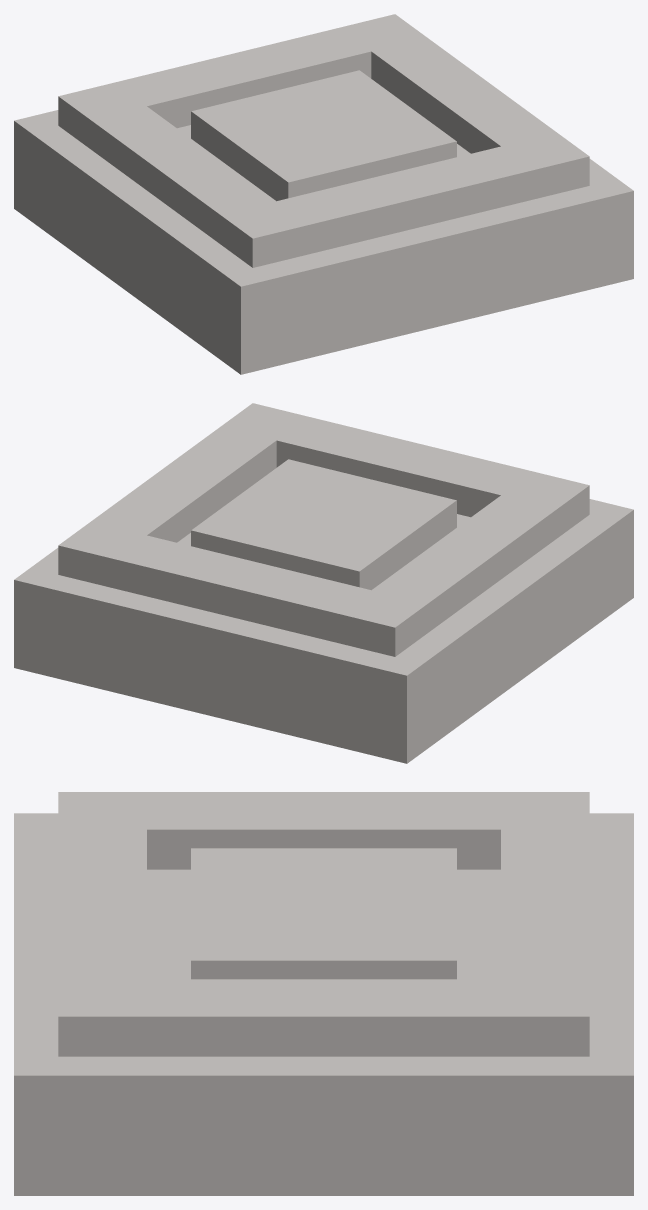
File: man-v3-white.gltf
3 views of the same model, one above another, from view 1: azimuth 30°, elevation 25°; view 2: azimuth 150°, elevation 25°; view 3: azimuth 270°, elevation 25° (orthographic). The views are drawn at different scales.
Visible parts, largest first — view 1: Untitled; view 2: Untitled; view 3: Untitled.
Part boxes in pixels (<box>): Untitled: <box>14,14,633,374</box>; Untitled: <box>14,403,633,763</box>; Untitled: <box>14,792,633,1195</box>.
Bounding box in the file's own units: 1.4 × 0.4 × 1.4.
Materials: 1 (1 with a texture image).
